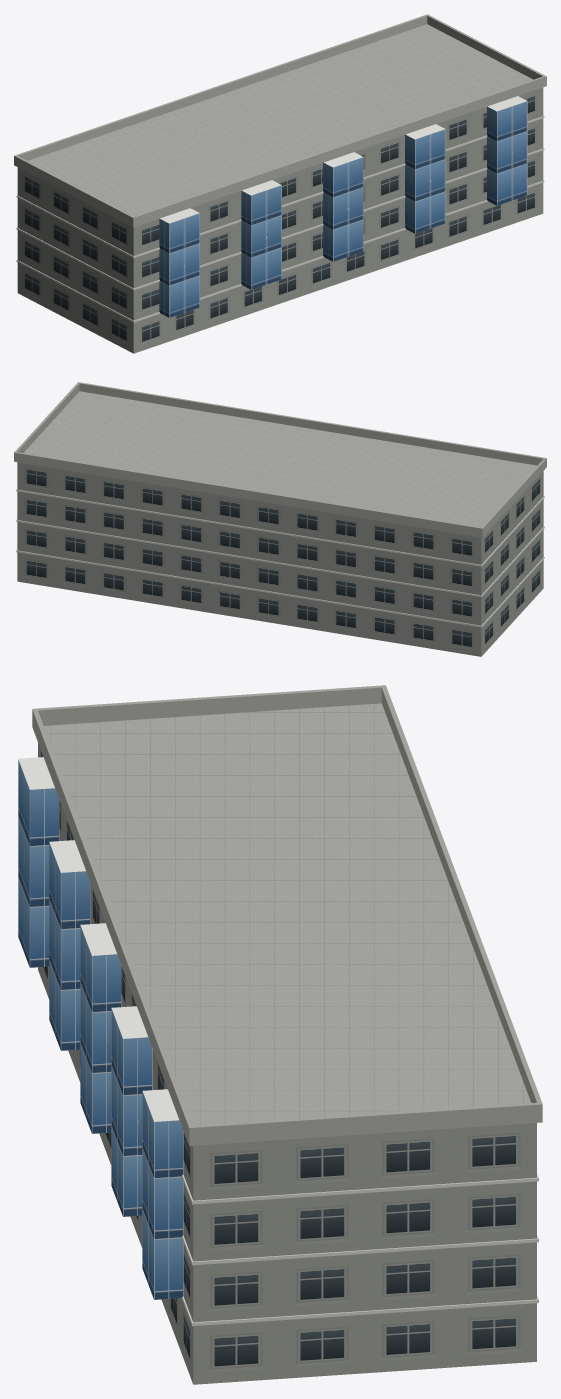
File: dorm_e3_no8.glb
The picture shows the model from 3 angles, top to bottom: view 1: azimuth 30°, elevation 25°; view 2: azimuth 150°, elevation 25°; view 3: azimuth 270°, elevation 25°; orthographic projection. The views are drawn at different scales.
Parts seen in each view (by area): view 1: manual-21; view 2: manual-21; view 3: manual-21.
Part boxes in pixels (<box>): manual-21: <box>14,14,546,353</box>; manual-21: <box>14,382,546,656</box>; manual-21: <box>18,685,542,1384</box>.
Bounding box in the file's own units: 42.16 × 11.5 × 21.1.
5 materials, 3 textured.
